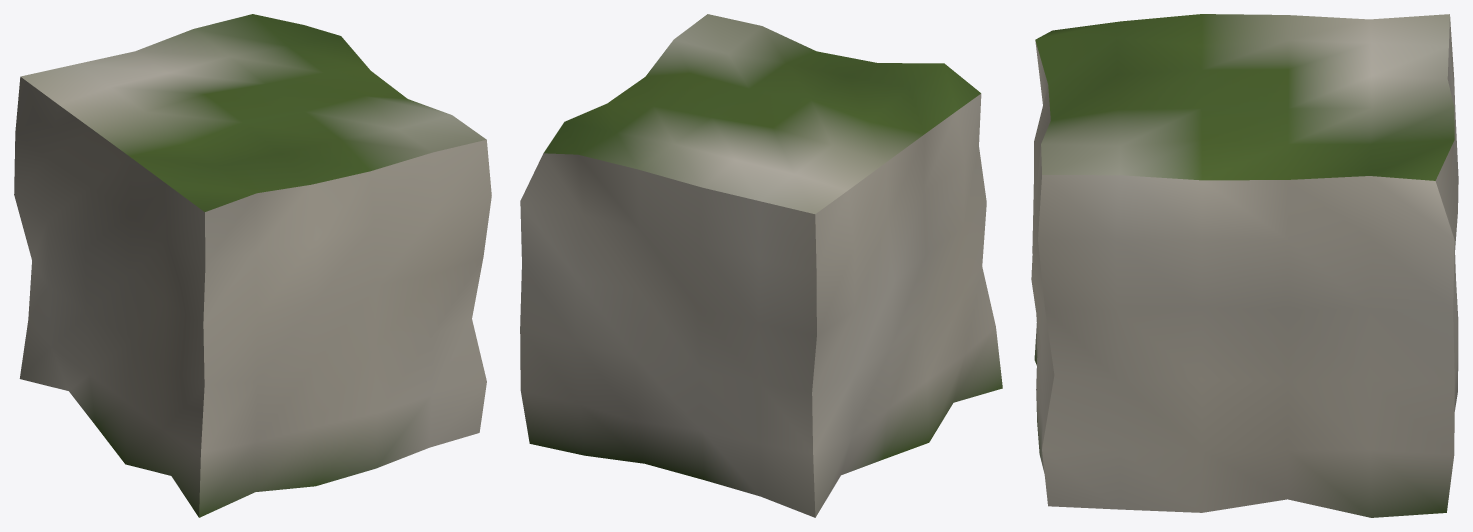
File: block-c.glb
3 views of the same model, side by side, from view 1: azimuth 30°, elevation 25°; view 2: azimuth 150°, elevation 25°; view 3: azimuth 270°, elevation 25° (orthographic). The views are drawn at different scales.
Visible parts, largest first — view 1: block-c; view 2: block-c; view 3: block-c.
Boxes of the visible parts, x1=… form: block-c: x1=14, y1=14, x2=491, y2=517; block-c: x1=520, y1=14, x2=1002, y2=517; block-c: x1=1031, y1=14, x2=1458, y2=517.
Bounding box in the file's own units: 0.3593 × 0.3572 × 0.3885.
